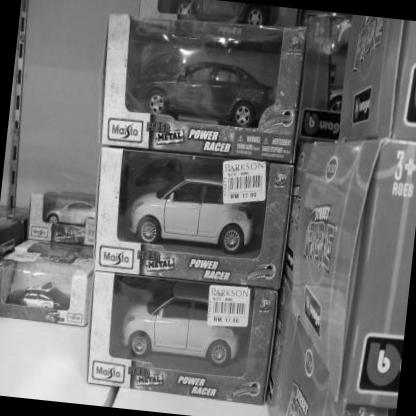car: (128, 37, 278, 135), (129, 159, 256, 264), (118, 280, 244, 369)
